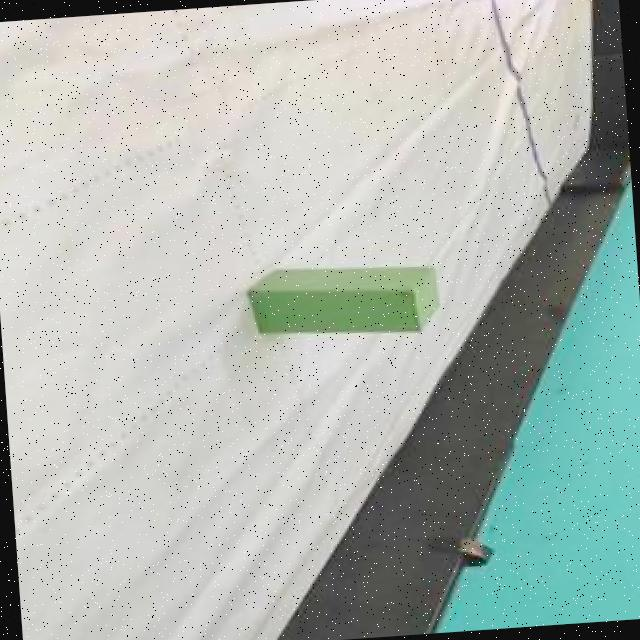greenbox: (242, 255, 442, 346)
